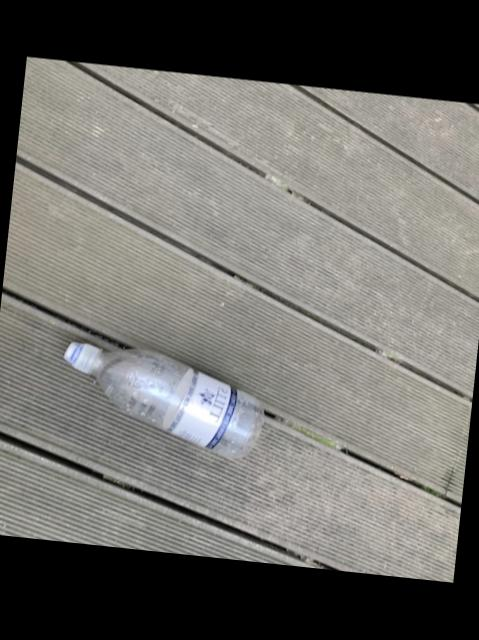plastic: (64, 344, 263, 460)
